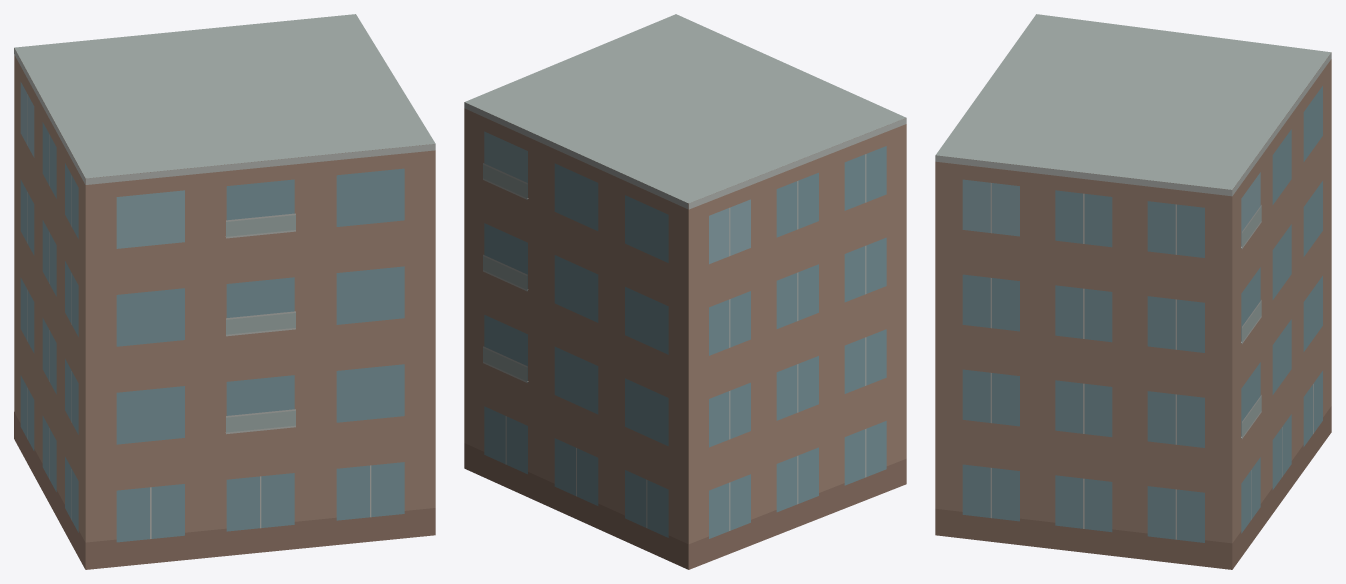
The model's file is survey-upis-32804670.glb.
3 renders of one model, left to right at view 1: azimuth 30°, elevation 25°; view 2: azimuth 150°, elevation 25°; view 3: azimuth 270°, elevation 25°, orthographic. The views are drawn at different scales.
Visible parts, largest first — view 1: survey-upis-32804670.tmp; view 2: survey-upis-32804670.tmp; view 3: survey-upis-32804670.tmp.
Part boxes in pixels (bbox=[...]): survey-upis-32804670.tmp: bbox=[14, 14, 435, 569]; survey-upis-32804670.tmp: bbox=[464, 14, 906, 569]; survey-upis-32804670.tmp: bbox=[935, 14, 1331, 569].
Bounding box in the file's own units: 14.41 × 14.5 × 13.71.
